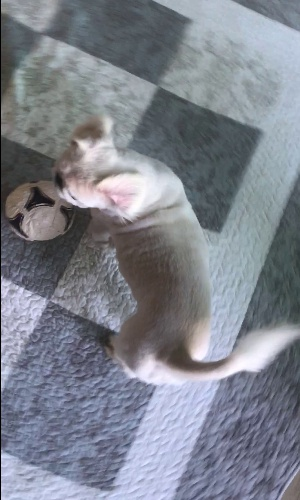ddubi: (48, 111, 300, 392)
